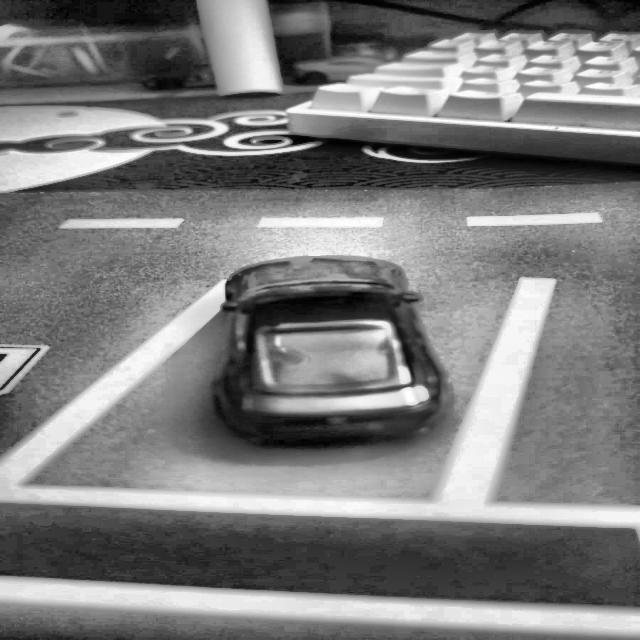car: (213, 255, 447, 442)
